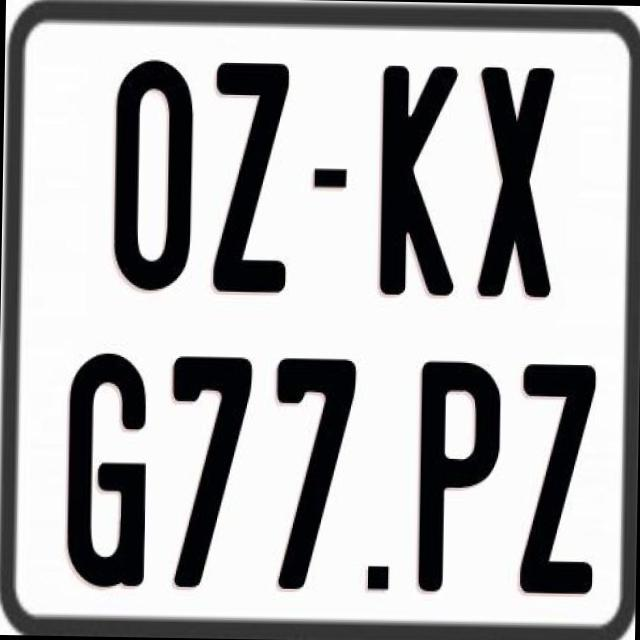0: (108, 54, 190, 290)
7: (272, 357, 360, 588), (166, 356, 250, 590)
G: (66, 350, 148, 588)
K: (378, 62, 460, 294)
P: (416, 357, 500, 589)
X: (476, 65, 560, 304)
Z: (212, 62, 294, 302), (516, 360, 594, 592)
